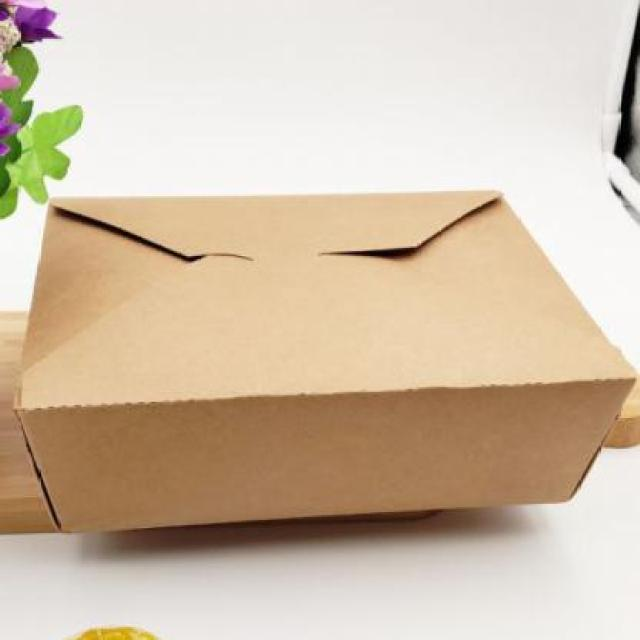box: (14, 154, 638, 567)
